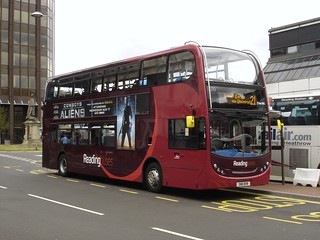bus: (40, 44, 272, 193)
